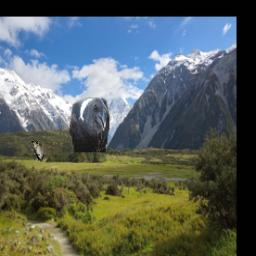Crow: (70, 96, 110, 152)
Swallow: (25, 139, 44, 163)
